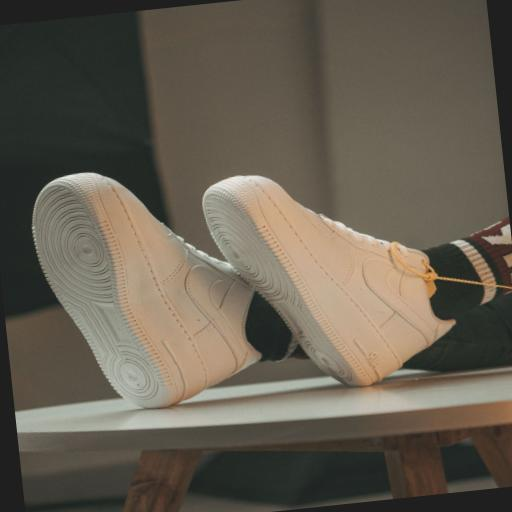shoe: (32, 173, 260, 407), (203, 176, 453, 386)
